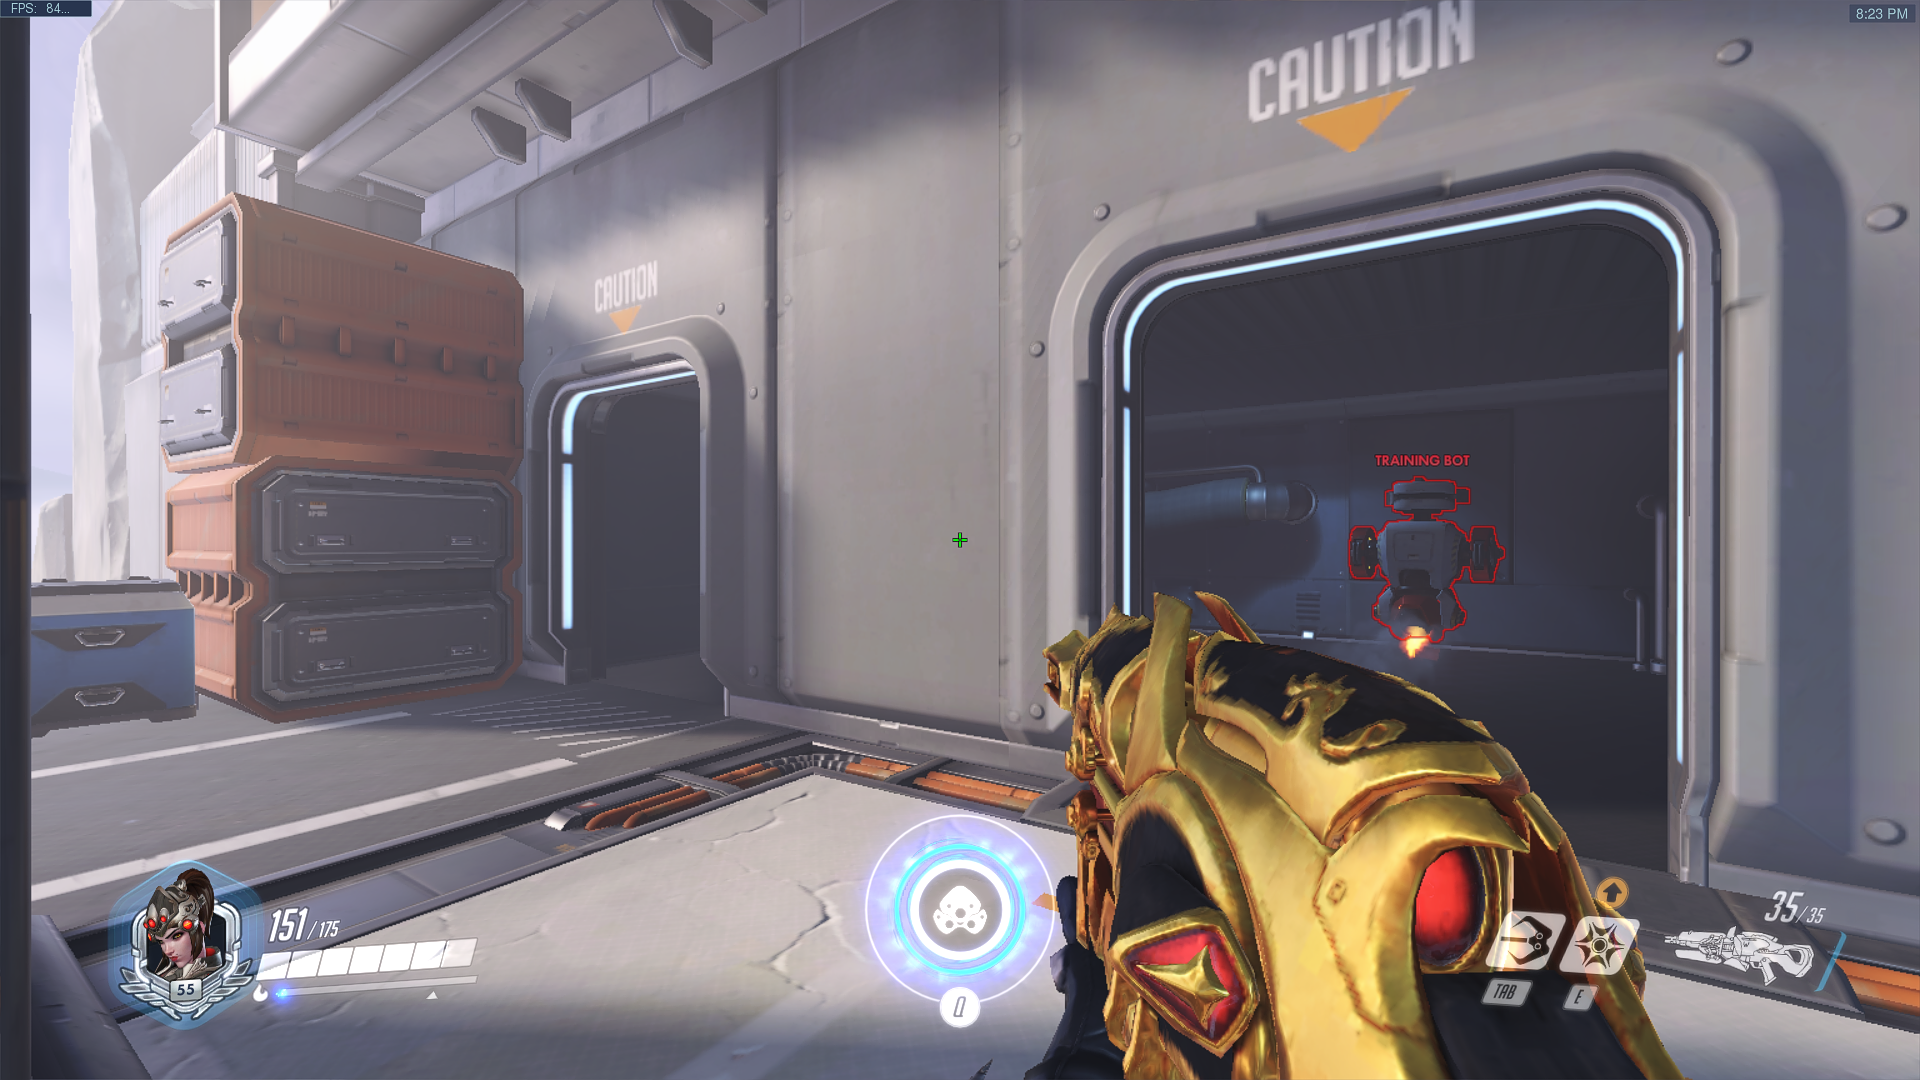head: (1382, 484, 1461, 516)
